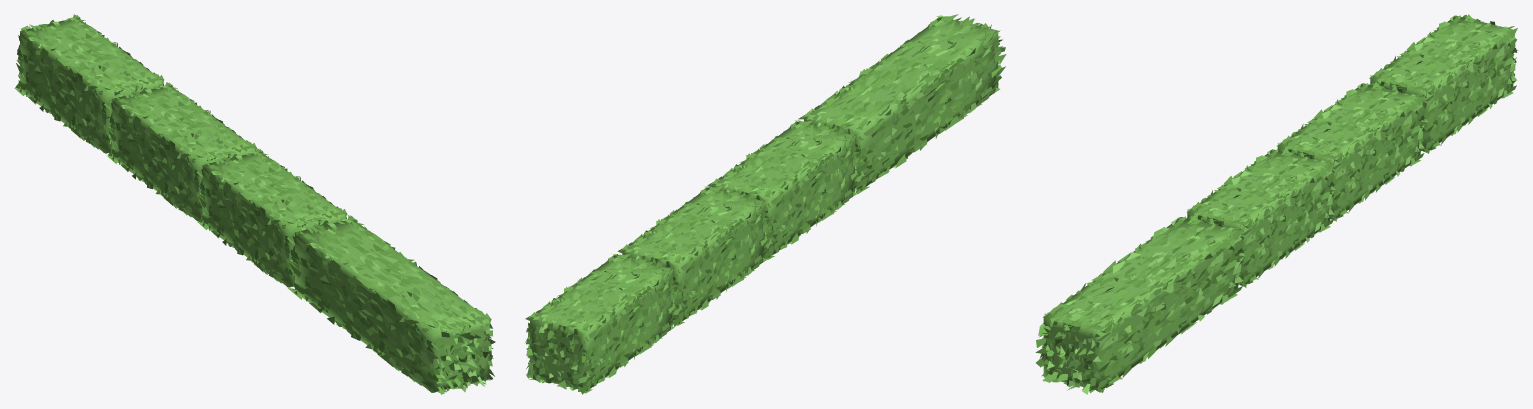
File: BUSH15.fbx
3 views of the same model, side by side, from view 1: azimuth 30°, elevation 25°; view 2: azimuth 150°, elevation 25°; view 3: azimuth 330°, elevation 25° (orthographic).
Visible parts, largest first — view 1: Cube.470; view 2: Cube.470; view 3: Cube.470.
Part boxes in pixels (box(x1,y1,x2,y2)): Cube.470: box(14, 14, 495, 394); Cube.470: box(524, 14, 1006, 394); Cube.470: box(1035, 14, 1518, 394).
Bounding box in the file's own units: 1300 × 1295 × 15015.
